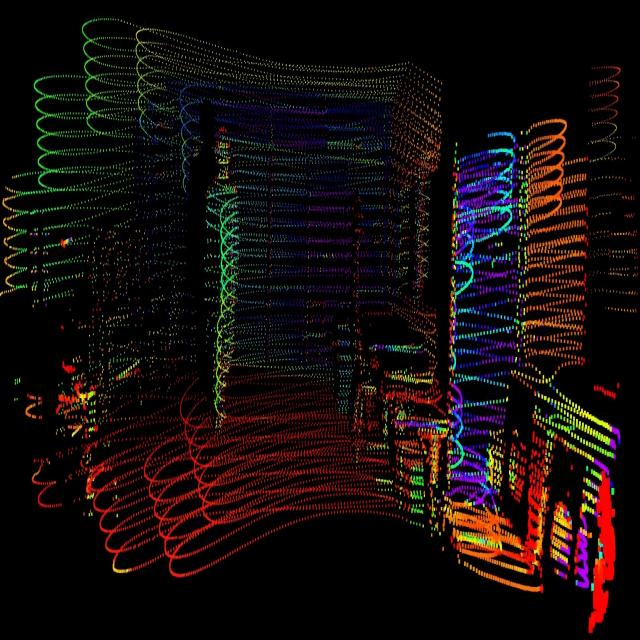human: (196, 107, 248, 436)
